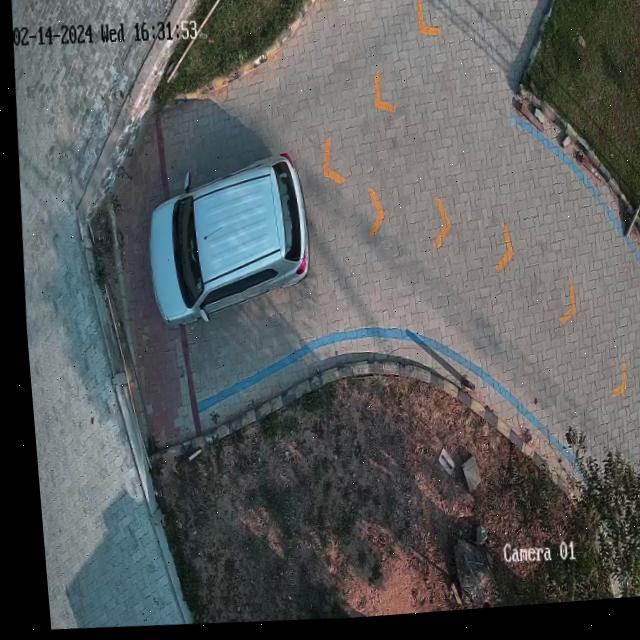car: (143, 154, 306, 329)
